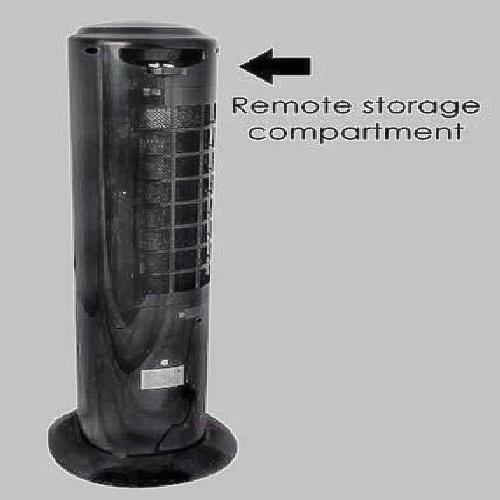coffee_maker: (50, 23, 234, 477)
